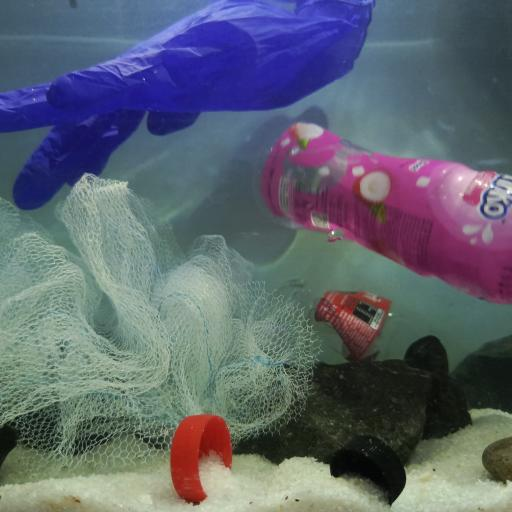bottle_cap: (170, 414, 233, 502), (330, 435, 406, 504)
glove: (0, 0, 375, 212)
net: (1, 170, 324, 468)
plastic_bottle: (254, 120, 512, 306), (271, 277, 427, 363)
